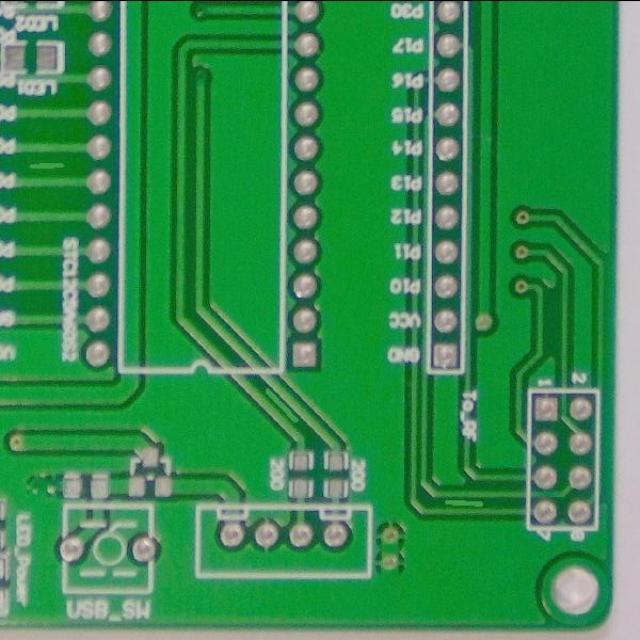spurious_copper: (264, 386, 298, 426), (24, 151, 70, 178), (440, 491, 488, 515)
